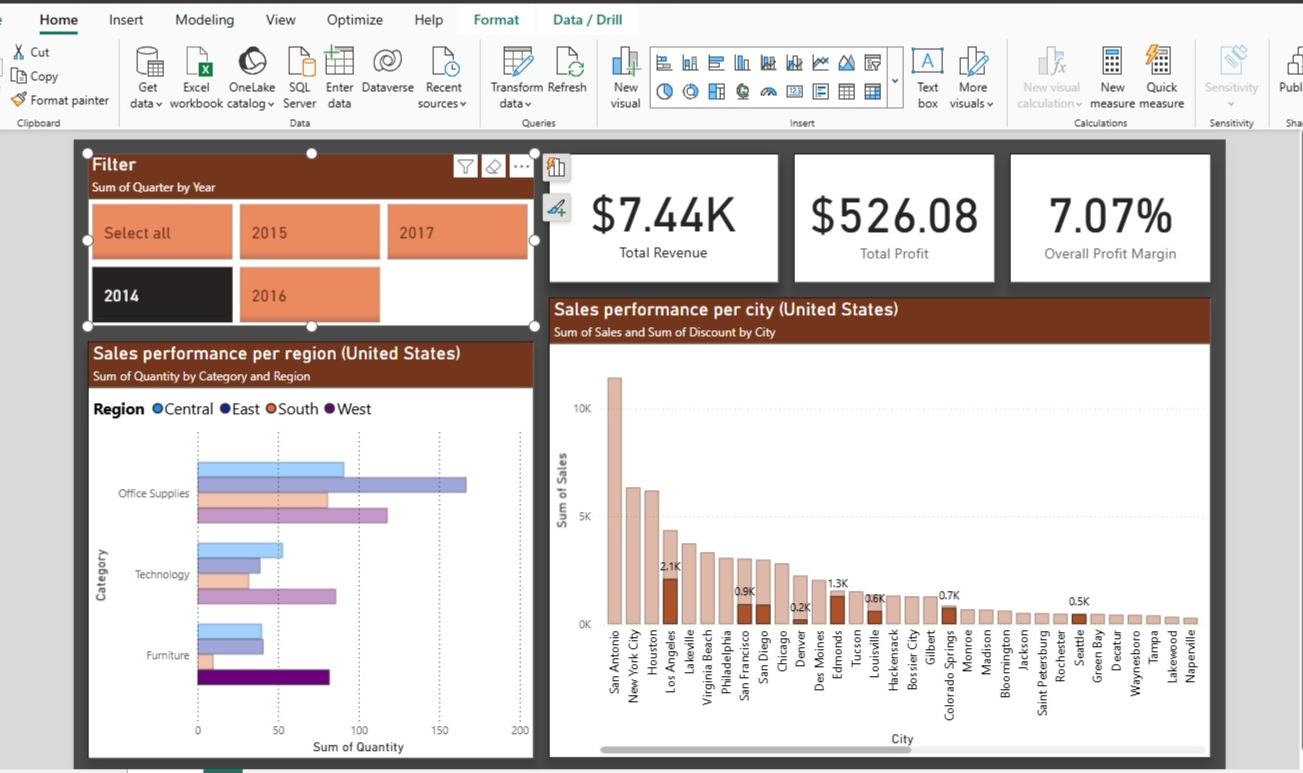

What the dashboard file says about the page in this screenshot:
{"tool":"powerbi","page":{"name":"Page 1","canvas":[1280,720],"ordinal":0},"visuals":[{"type":"card","fields":{"Values":["Cleaned Superstore.Total Revenue"]},"box":[528,16,256,144],"z":0},{"type":"card","fields":{"Values":["Cleaned Superstore.Total Profit"]},"box":[800,16,224,144],"z":1000},{"type":"card","fields":{"Values":["Cleaned Superstore.Overall Profit Margin"]},"box":[1040,16,224,144],"z":2000},{"type":"columnChart","title":"Sales performance per city (United States)","fields":{"Category":["Cleaned Superstore.City"],"Y":["Sum(Cleaned Superstore.Sales)"]},"box":[528,176,736,512],"z":3000},{"type":"advancedSlicerVisual","title":"Filter","fields":{"Values":["Year.Year"]},"box":[16,16,496,192],"z":4000},{"type":"clusteredBarChart","title":"Sales performance per region (United States)","fields":{"Series":["Cleaned Superstore.Region"],"Category":["Cleaned Superstore.Category"],"Y":["Sum(Cleaned Superstore.Quantity)"]},"box":[16,224,496,464],"z":5000}]}

Visuals, with their boxes on the page's 1280x720 design canvas (x1, y1, x2, y2). These are canvas units, not pixel positions in the 1303x773 screenshot, which may show the page scaled, cropped or inside an application window:
card - Cleaned Superstore.Total Revenue: locate(528, 16, 784, 160)
card - Cleaned Superstore.Total Profit: locate(800, 16, 1024, 160)
card - Cleaned Superstore.Overall Profit Margin: locate(1040, 16, 1264, 160)
"Sales performance per city (United States)" columnChart: locate(528, 176, 1264, 688)
"Filter" advancedSlicerVisual: locate(16, 16, 512, 208)
"Sales performance per region (United States)" clusteredBarChart: locate(16, 224, 512, 688)
